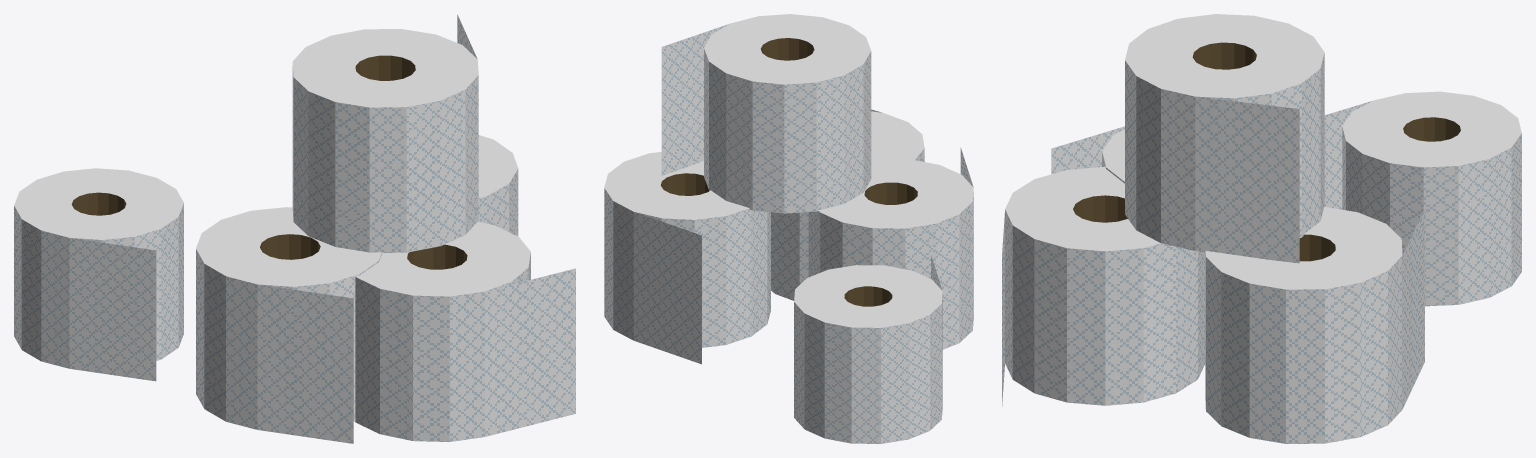
Rendered from tp pile.glb.
3 renders of one model, left to right at view 1: azimuth 30°, elevation 25°; view 2: azimuth 150°, elevation 25°; view 3: azimuth 270°, elevation 25°, orthographic. The views are drawn at different scales.
Parts seen in each view (by area): view 1: Toilet Paper, Original; view 2: Toilet Paper, Original; view 3: Toilet Paper, Original.
Part boxes in pixels (x1,y1,x2,y2): Toilet Paper: [196, 14, 575, 443]; Original: [14, 168, 183, 381]; Toilet Paper: [604, 14, 973, 364]; Original: [794, 255, 942, 443]; Toilet Paper: [1002, 14, 1424, 443]; Original: [1324, 91, 1521, 306].
Bounding box in the file's own units: 1.14 × 0.7649 × 1.15.
6 materials, 2 textured.
